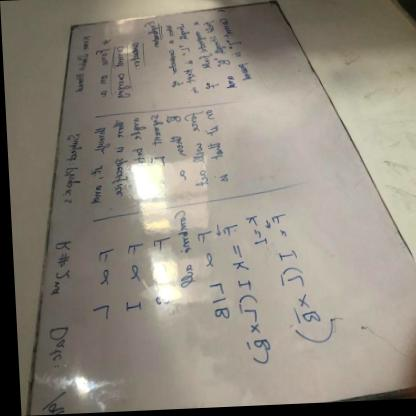Handwritten text: (189, 106, 234, 193), (198, 16, 239, 100), (212, 11, 256, 89), (182, 15, 221, 98), (162, 210, 197, 292), (171, 19, 203, 100), (54, 126, 83, 210), (84, 123, 108, 211), (181, 110, 207, 191), (108, 118, 128, 204), (160, 20, 183, 91), (166, 113, 188, 187), (36, 320, 69, 367), (89, 42, 112, 104), (70, 31, 91, 98), (109, 43, 132, 103), (200, 279, 228, 328), (146, 112, 164, 173), (144, 221, 172, 254), (84, 296, 112, 325), (122, 113, 147, 145), (89, 240, 117, 267), (142, 17, 162, 54), (114, 296, 139, 322), (128, 34, 142, 77), (189, 224, 210, 245), (122, 236, 139, 259)
